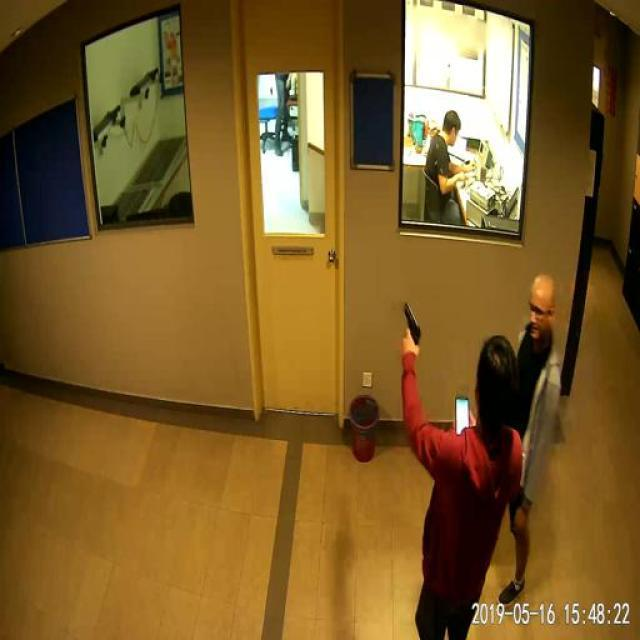Gun: (392, 295, 435, 353)
